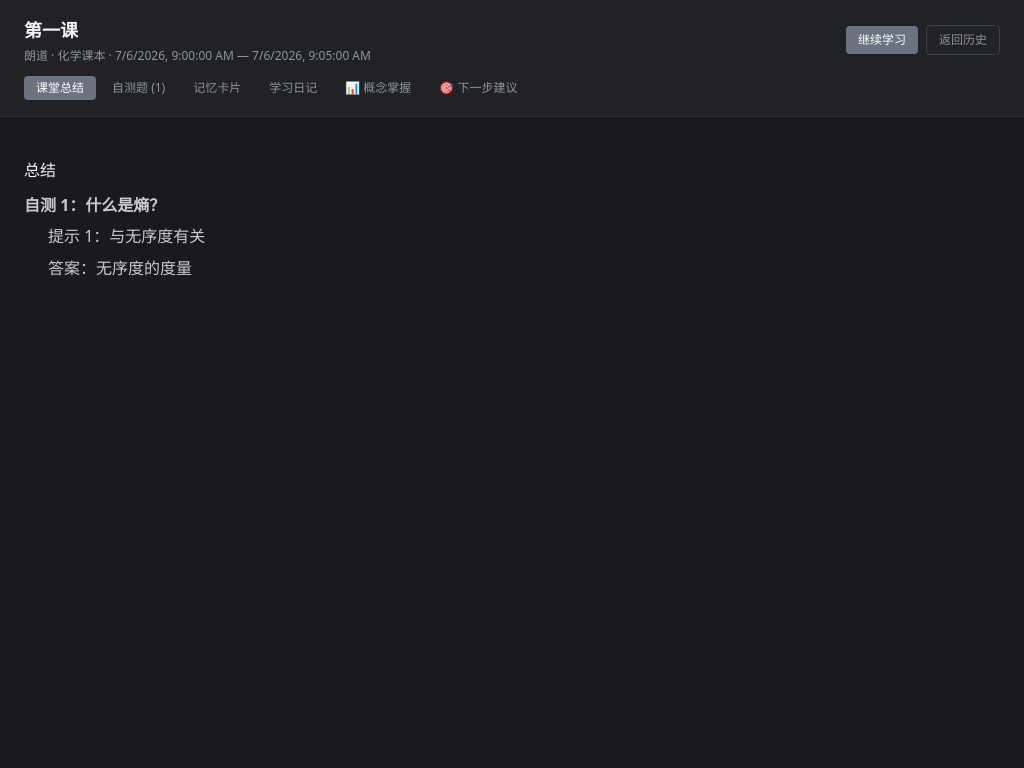
ReviewView › builds next steps from the concept tiers
Click the button "🎯 下一步建议": (478, 88) 427,76 -> 530,100
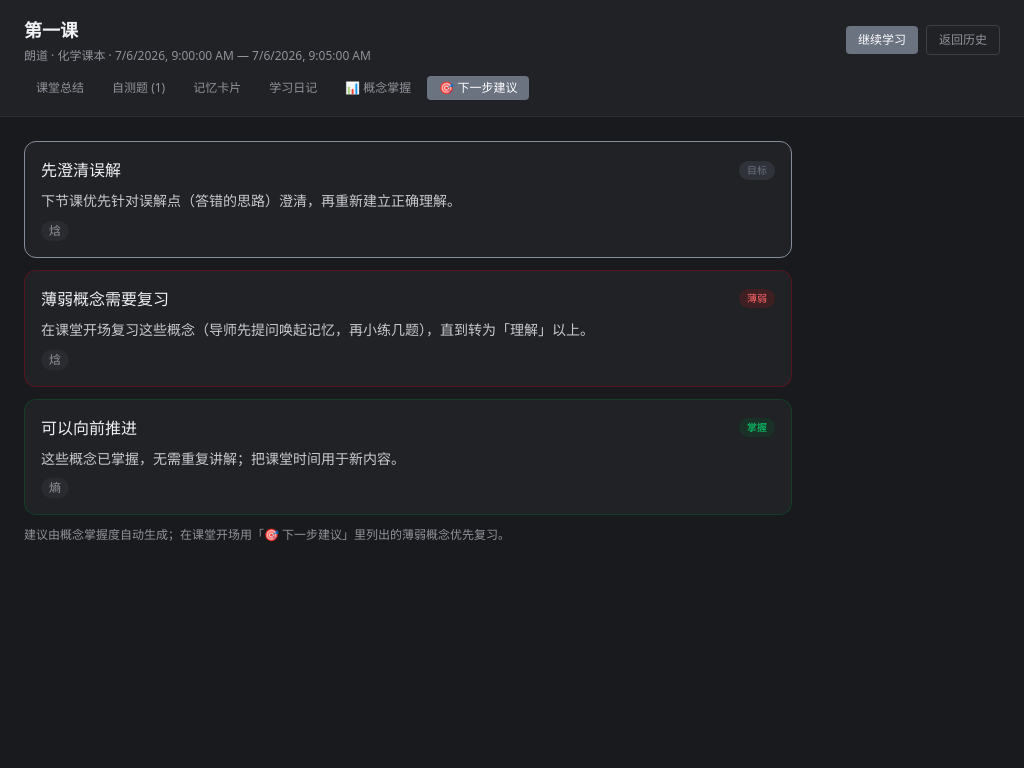
Result: the text "先澄清误解" is shown at 41,158 -> 121,182
Result: the text "薄弱概念需要复习" is shown at 41,287 -> 169,311
Result: the text "可以向前推进" is shown at 41,416 -> 137,440
